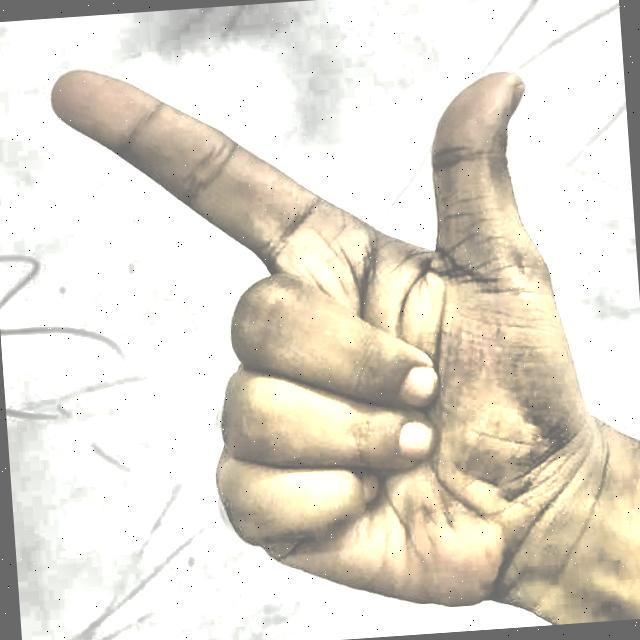Tha: (25, 0, 602, 640)
